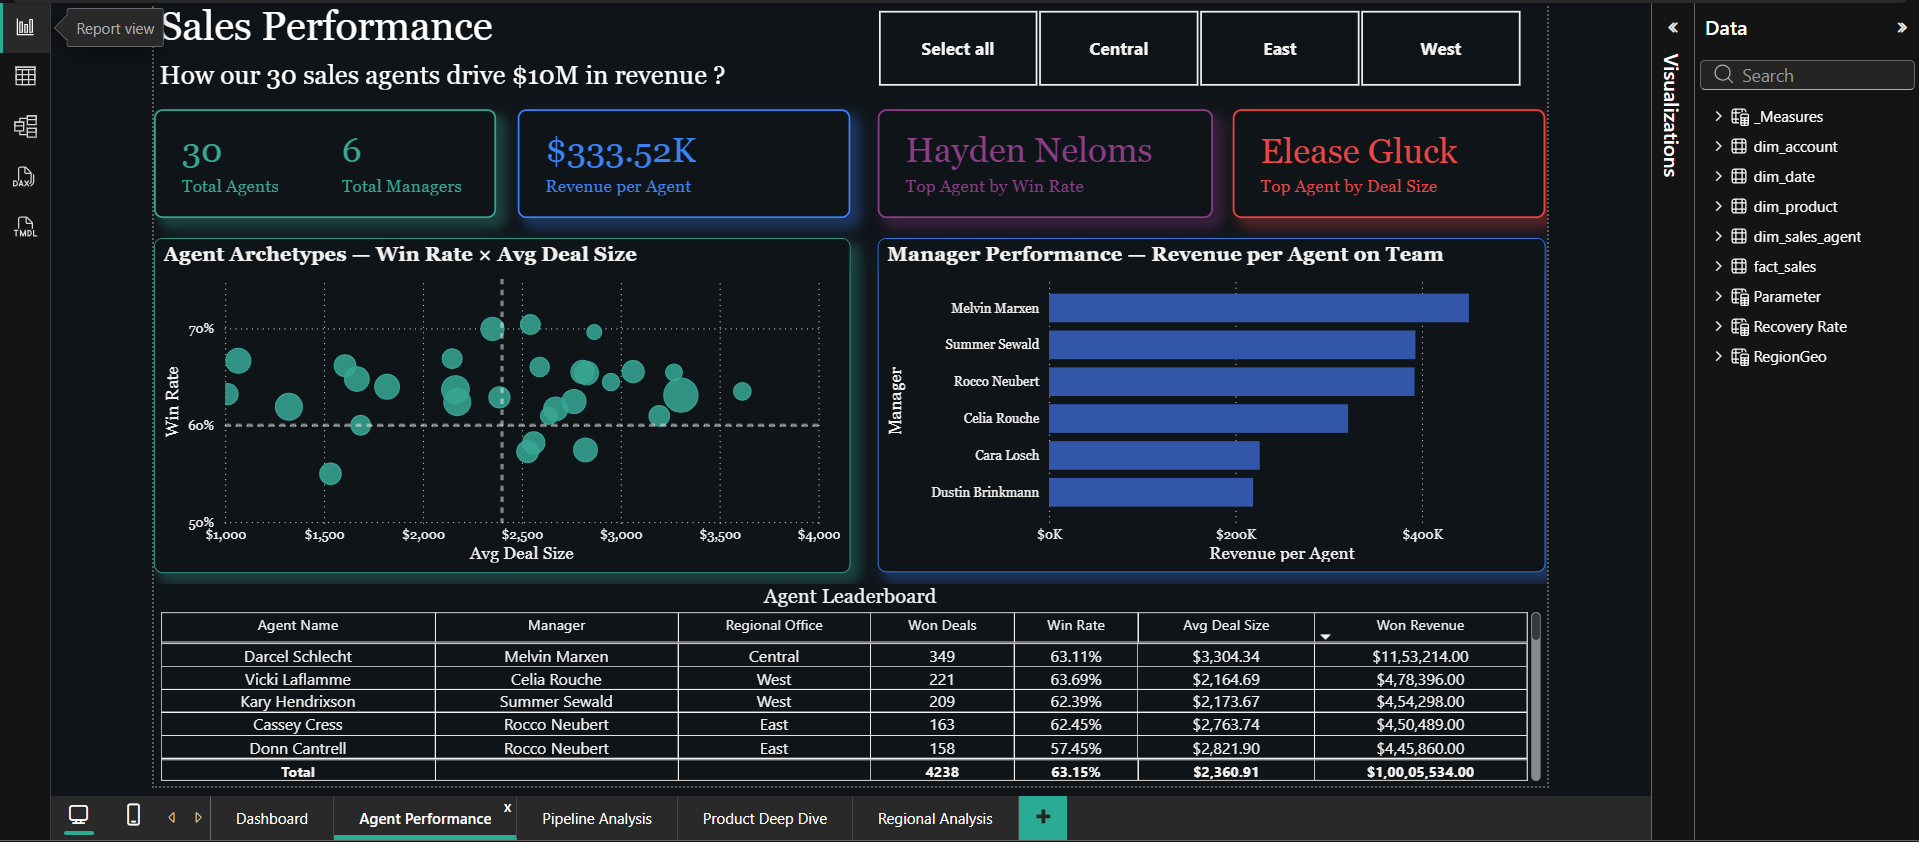

The page's visual inventory and layout, read from the dashboard file:
{"tool":"powerbi","page":{"name":"Agent Performance","canvas":[1280,720],"ordinal":1},"visuals":[{"type":"textbox","title":"Sales Performance","box":[0,0,319.8,43],"z":0},{"type":"textbox","title":"How our 30 sales agents drive $10M in revenue ?","box":[0,51.7,538.7,31],"z":1000},{"type":"cardVisual","fields":{"Data":["_Measures.Total Agents","_Measures.Managers"]},"box":[0,97.6,314.7,99.9],"z":2000},{"type":"cardVisual","fields":{"Data":["_Measures.Top Agent by Win Rate"]},"box":[665.1,97.6,307.9,99.9],"z":3000},{"type":"cardVisual","fields":{"Data":["_Measures.Revenue per Agent"]},"box":[334.3,97.6,305.6,99.9],"z":4000},{"type":"cardVisual","fields":{"Data":["_Measures.Top Agent by Deal Size"]},"box":[991.9,97.7,287.2,100],"z":5000},{"type":"scatterChart","title":"Agent Archetypes — Win Rate × Avg Deal Size","fields":{"X":["_Measures.Avg Deal Size"],"Y":["_Measures.Win Rate"],"Category":["dim_sales_agent.agent_name"],"Size":["_Measures.Won Deals"]},"box":[0,216,639.8,307.9],"z":6000},{"type":"clusteredBarChart","title":"Manager Performance — Revenue per Agent on Team","fields":{"Category":["dim_sales_agent.manager"],"Y":["_Measures.Revenue per Agent"]},"box":[665.1,216.3,614,307],"z":7000},{"type":"tableEx","title":"Agent Leaderboard","fields":{"Values":["dim_sales_agent.agent_name","dim_sales_agent.manager","dim_sales_agent.regional_office","_Measures.Won Deals","_Measures.Win Rate","_Measures.Avg Deal Size","_Measures.Won Revenue"]},"box":[0,534.1,1279.6,186.1],"z":8000},{"type":"slicer","fields":{"Values":["dim_sales_agent.regional_office"]},"box":[639.8,0,639.8,82.7],"z":9000}]}

Visuals, with their boxes on the page's 1280x720 design canvas (x1, y1, x2, y2). These are canvas units, not pixel positions in the 1919x842 screenshot, which may show the page scaled, cropped or inside an application window:
"Sales Performance" textbox: x1=0 y1=0 x2=320 y2=43
"How our 30 sales agents drive $10M in revenue ?" textbox: x1=0 y1=52 x2=539 y2=83
cardVisual - _Measures.Total Agents x _Measures.Managers: x1=0 y1=98 x2=315 y2=198
cardVisual - _Measures.Top Agent by Win Rate: x1=665 y1=98 x2=973 y2=198
cardVisual - _Measures.Revenue per Agent: x1=334 y1=98 x2=640 y2=198
cardVisual - _Measures.Top Agent by Deal Size: x1=992 y1=98 x2=1279 y2=198
"Agent Archetypes — Win Rate × Avg Deal Size" scatterChart: x1=0 y1=216 x2=640 y2=524
"Manager Performance — Revenue per Agent on Team" clusteredBarChart: x1=665 y1=216 x2=1279 y2=523
"Agent Leaderboard" tableEx: x1=0 y1=534 x2=1280 y2=720
slicer - dim_sales_agent.regional_office: x1=640 y1=0 x2=1280 y2=83
